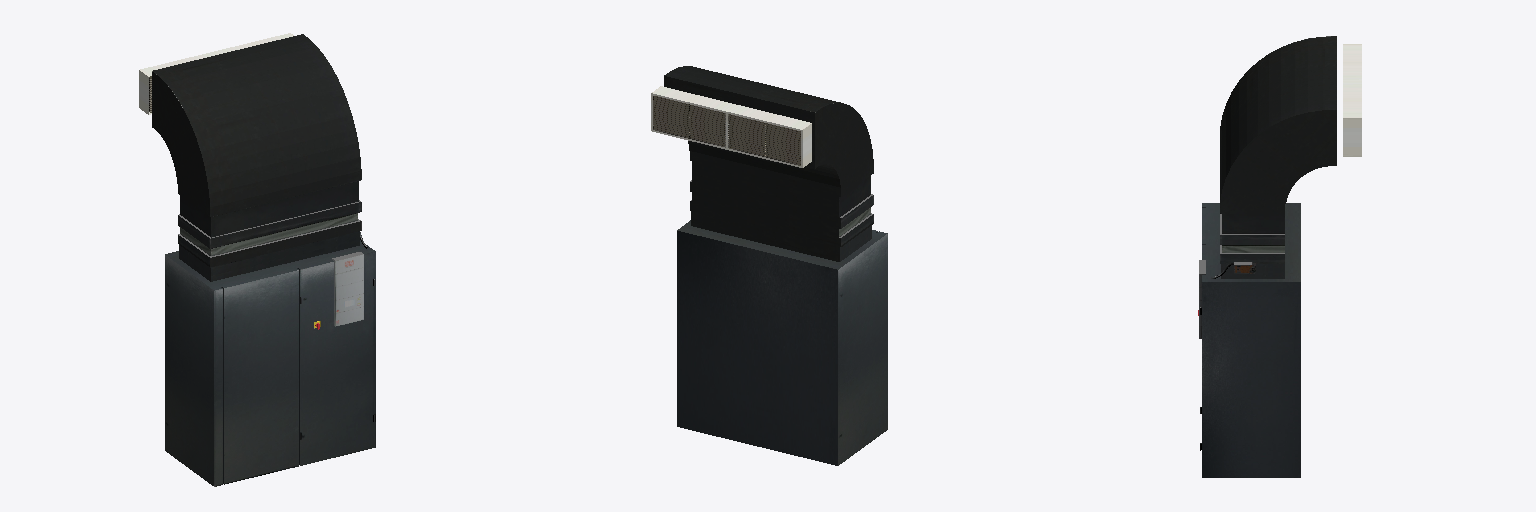
The picture shows the model from 3 angles: view 1: azimuth 30°, elevation 25°; view 2: azimuth 150°, elevation 25°; view 3: azimuth 270°, elevation 25°; orthographic projection.
Visible parts, largest first — view 1: Object003; view 2: Object003; view 3: Object003.
Part boxes in pixels (x1,y1,x2,y2): Object003: (139,33,375,486); Object003: (651,66,887,465); Object003: (1198,36,1361,477).
Size of the model in its own units: 1.7 by 3.68 by 1.5.
1 materials, 1 textured.